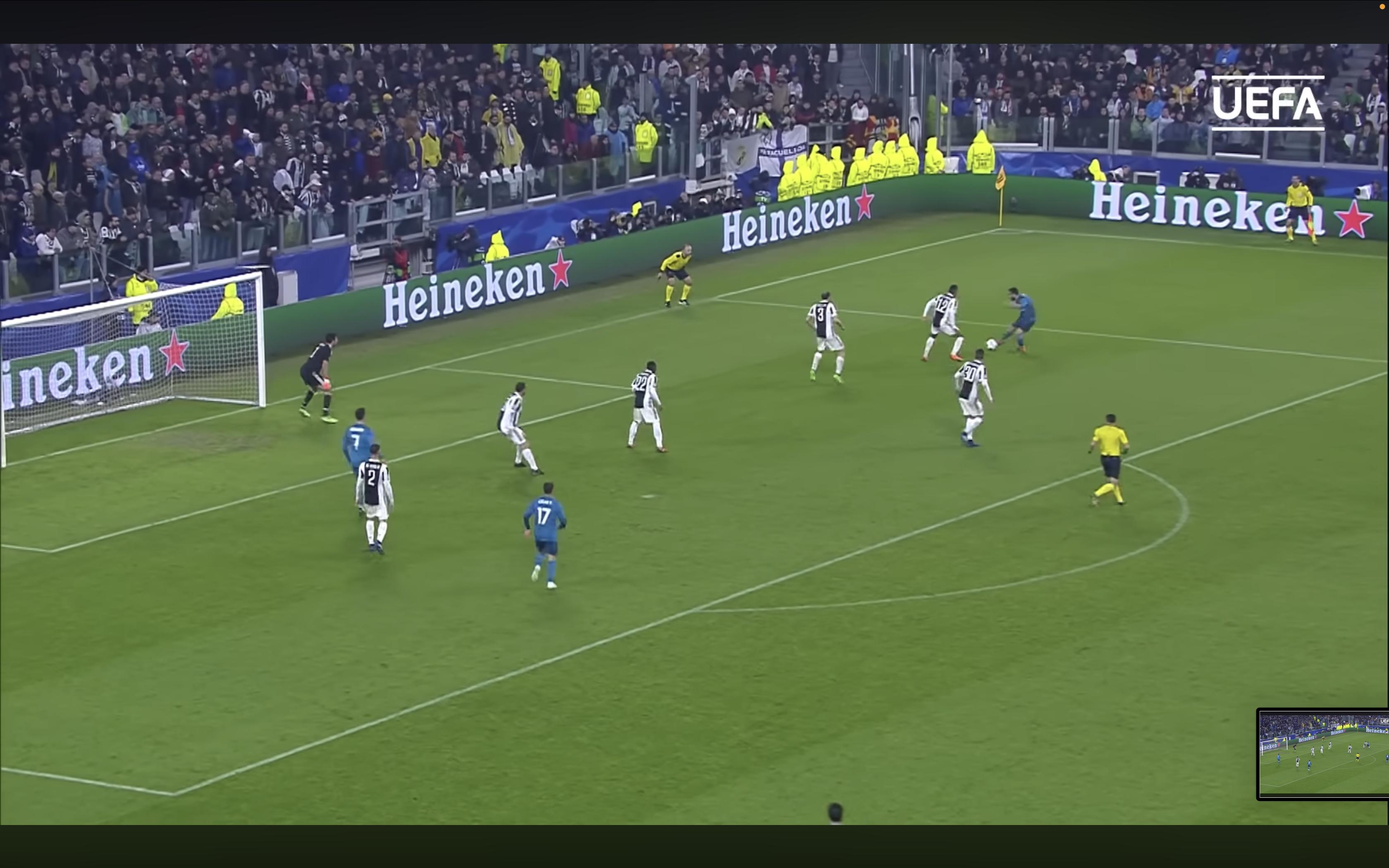ball: (984, 338, 999, 351)
goalkeeper: (299, 333, 337, 423)
player: (523, 483, 566, 589), (356, 444, 394, 553), (498, 382, 542, 475), (953, 349, 993, 447), (627, 361, 666, 453), (806, 291, 845, 383), (922, 285, 964, 361), (998, 288, 1036, 352), (342, 408, 374, 480)
referee: (1088, 414, 1129, 506), (1286, 176, 1316, 245), (659, 245, 692, 307)
